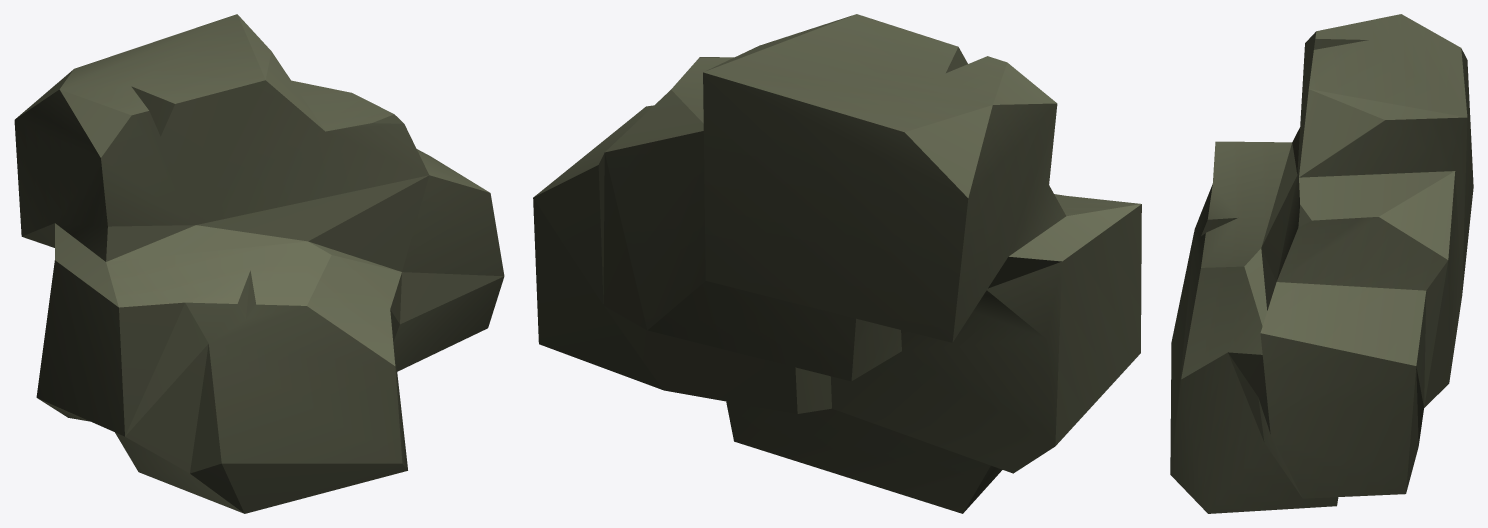
Rendered from RockFace2.fbx.
3 renders of one model, left to right at view 1: azimuth 30°, elevation 25°; view 2: azimuth 150°, elevation 25°; view 3: azimuth 270°, elevation 25°, orthographic. The views are drawn at different scales.
Parts seen in each view (by area): view 1: Cube.003; view 2: Cube.003; view 3: Cube.003.
Part boxes in pixels (x1,y1,x2,y2): Cube.003: [14, 14, 504, 513]; Cube.003: [533, 14, 1141, 513]; Cube.003: [1170, 14, 1473, 513].
Bounding box in the file's own units: 470 × 408 × 293.
